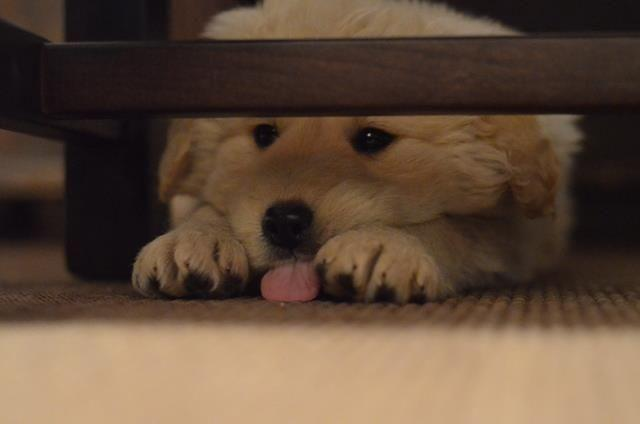puppy-dog: (131, 0, 583, 305)
